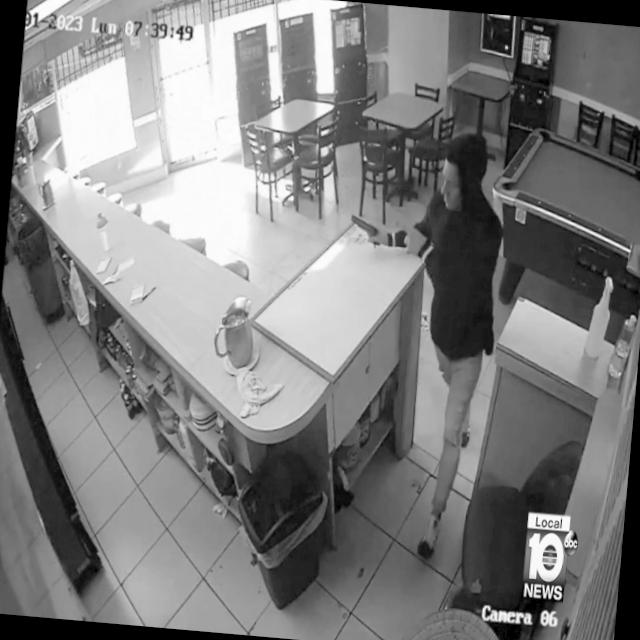gun: (346, 211, 384, 252)
person with a gun: (320, 122, 512, 566)
